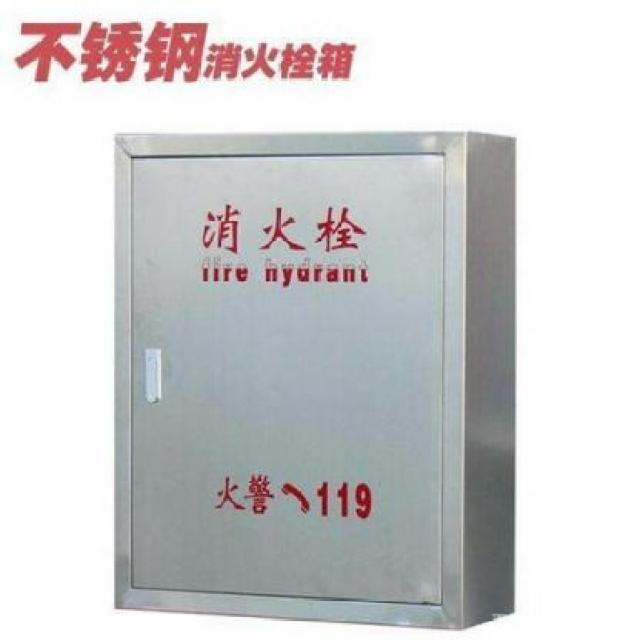firehydrant: (109, 127, 521, 636)
